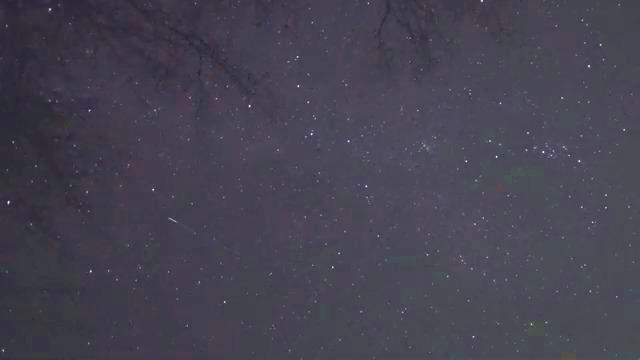meteorite: (150, 214, 203, 230)
